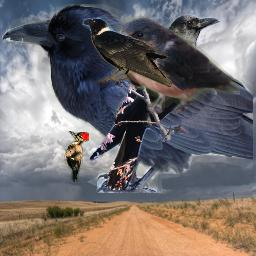Crow: (2, 4, 253, 193), (89, 13, 220, 190), (82, 16, 172, 87)
Swallow: (111, 16, 240, 114)
Woodpecker: (63, 131, 89, 182)
